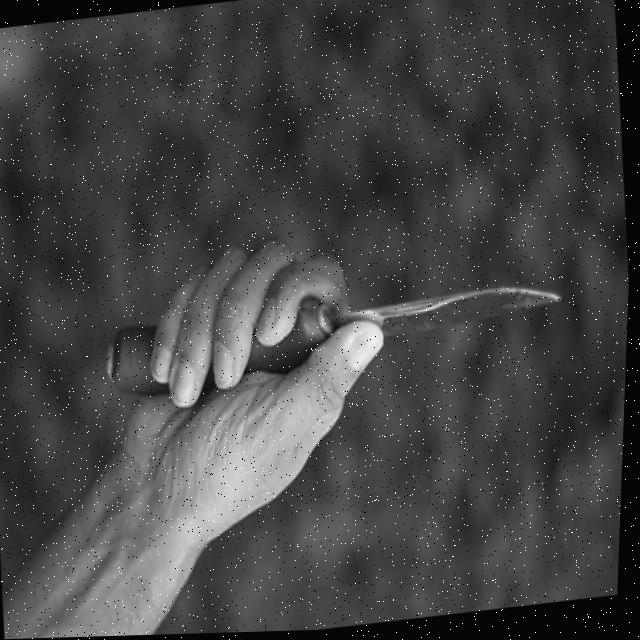knife: (378, 265, 584, 366)
